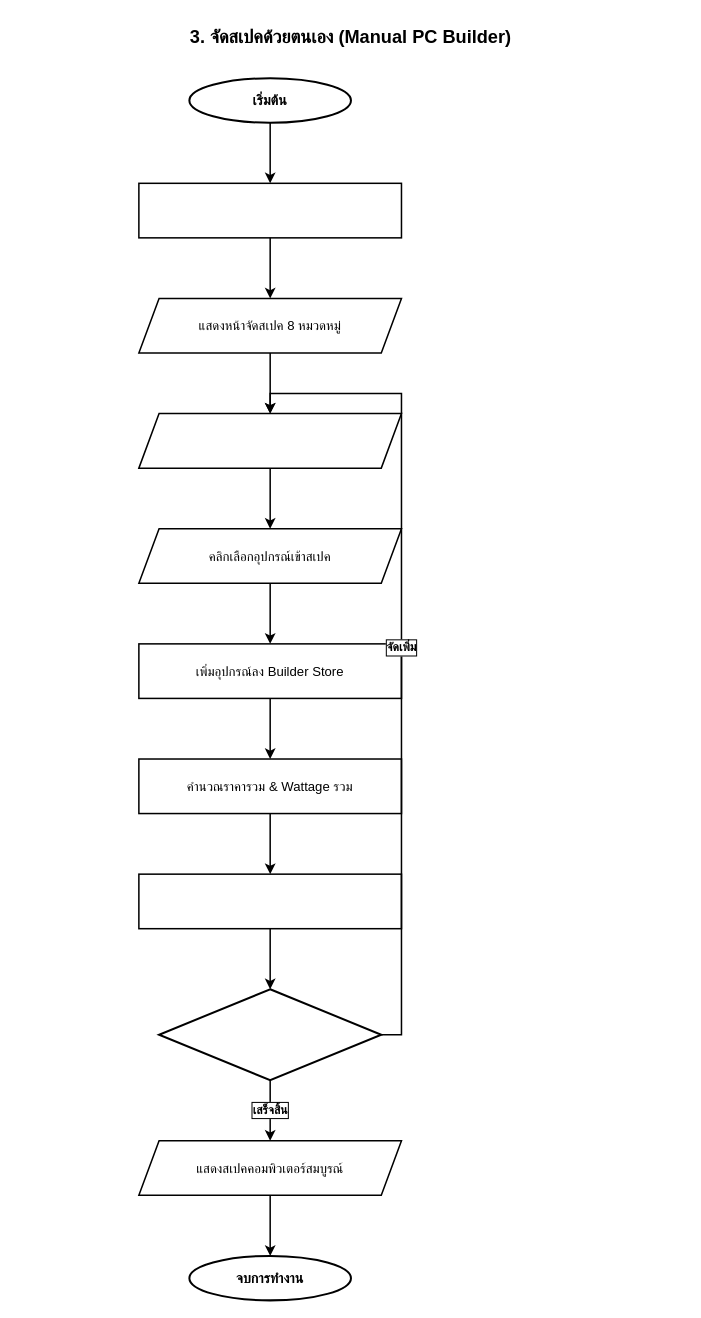
Some shapes in this 701 by 1318 pixel diagram are drawn without their labels. The centre of each missing label's shape, as x and y in pixels:
ดึงแคตตาล็อกอุปกรณ์จาก MySQL: [270,210]
ต้องการจัดอุปกรณ์เพิ่มหรือไม่?: [270,1034]
เรียกตรวจความเข้ากันได้: [270,901]
เลือกหมวดหมู่อุปกรณ์: [270,440]
